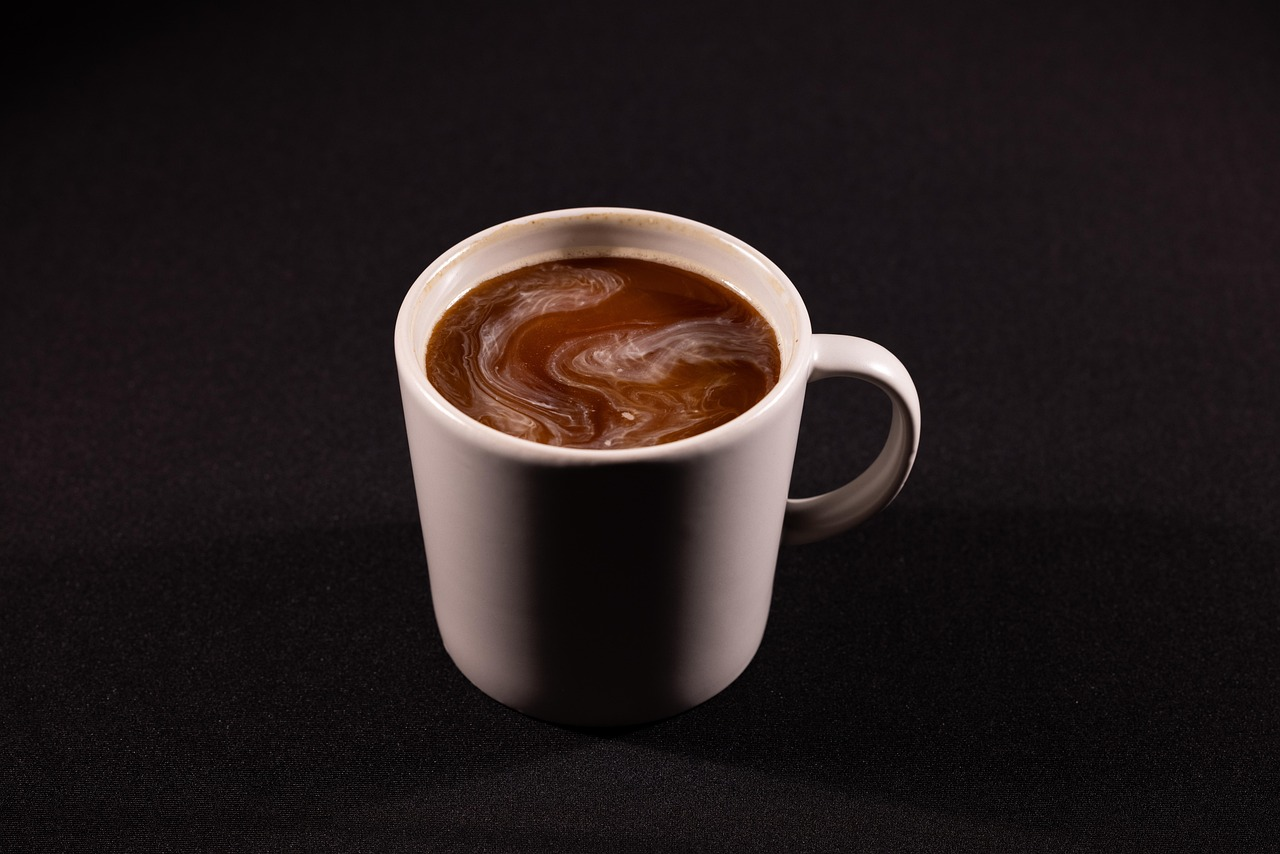mug: (376, 175, 1030, 733)
